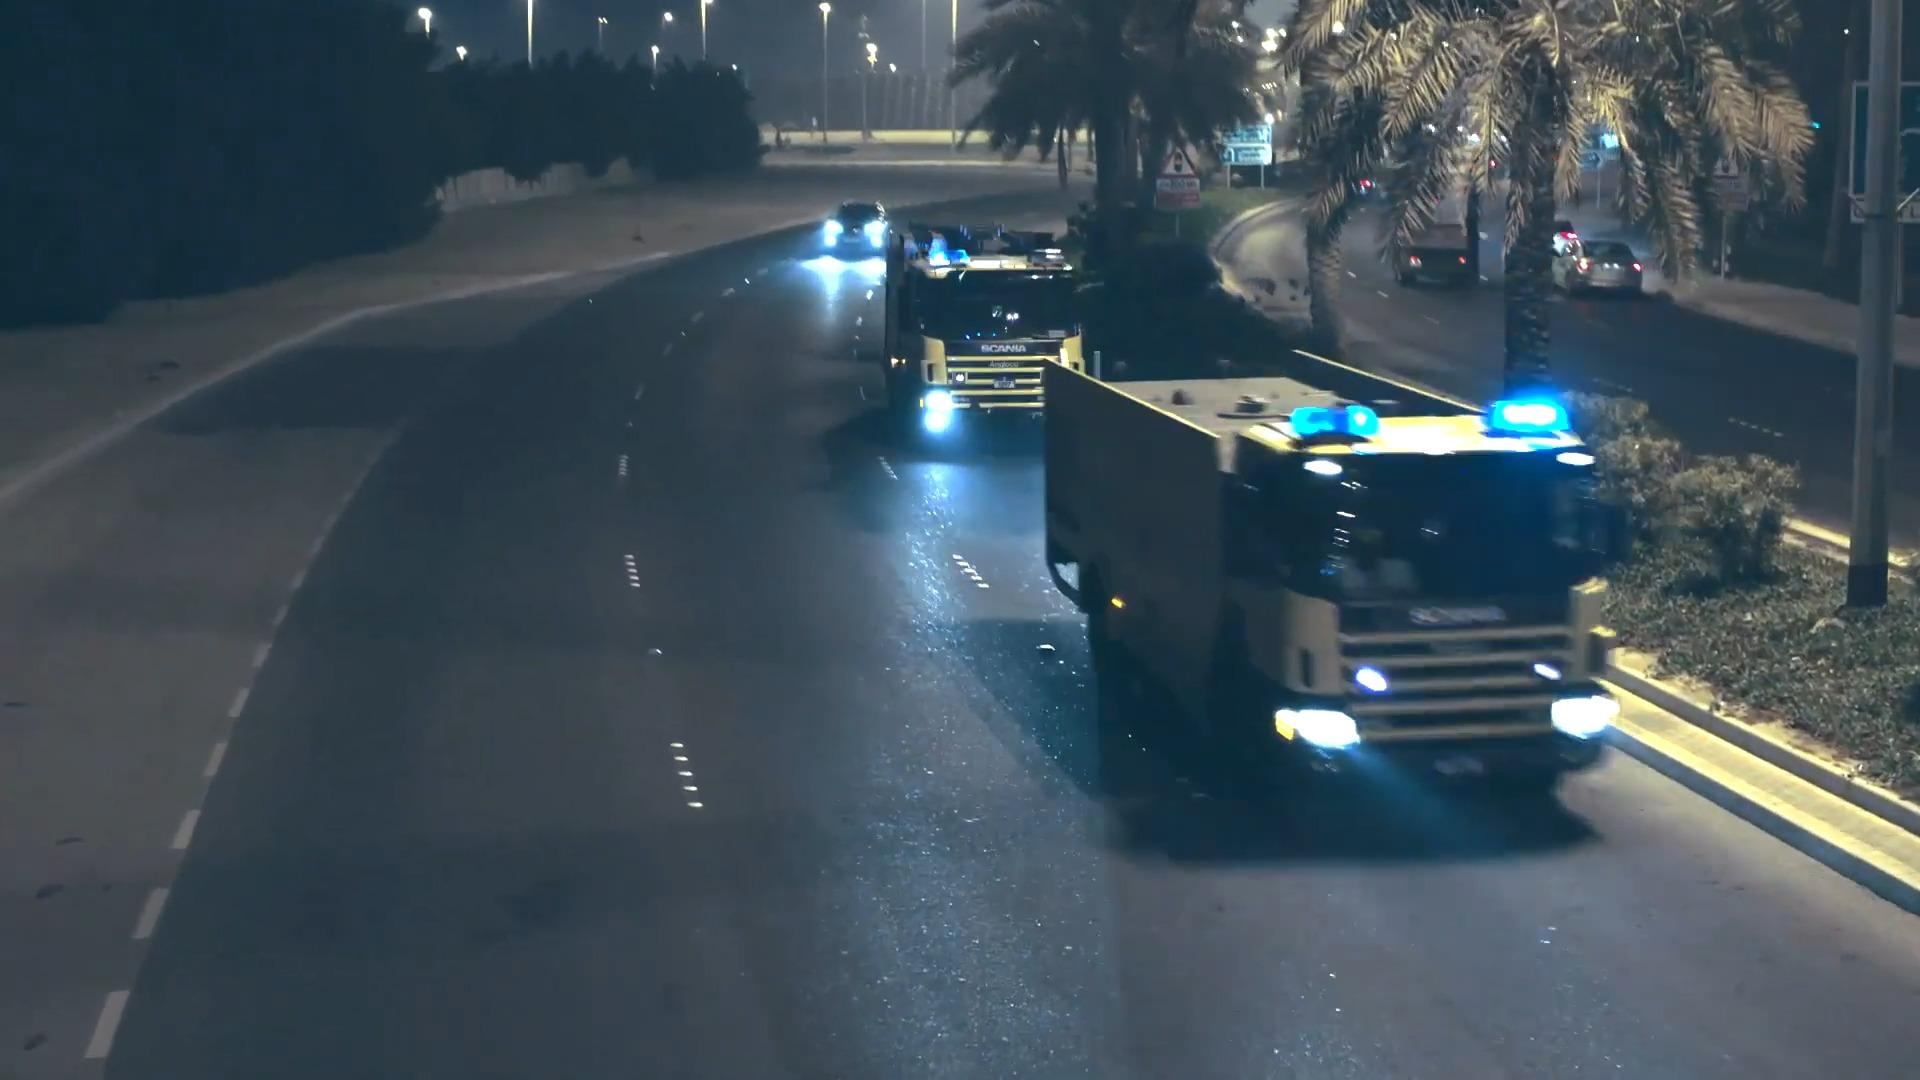firetruck_on: (1044, 351, 1635, 802), (887, 223, 1106, 440)
